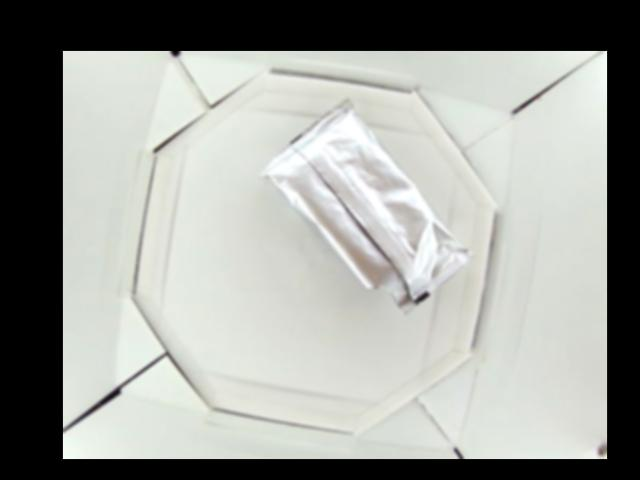Medicine: (262, 100, 469, 316)
